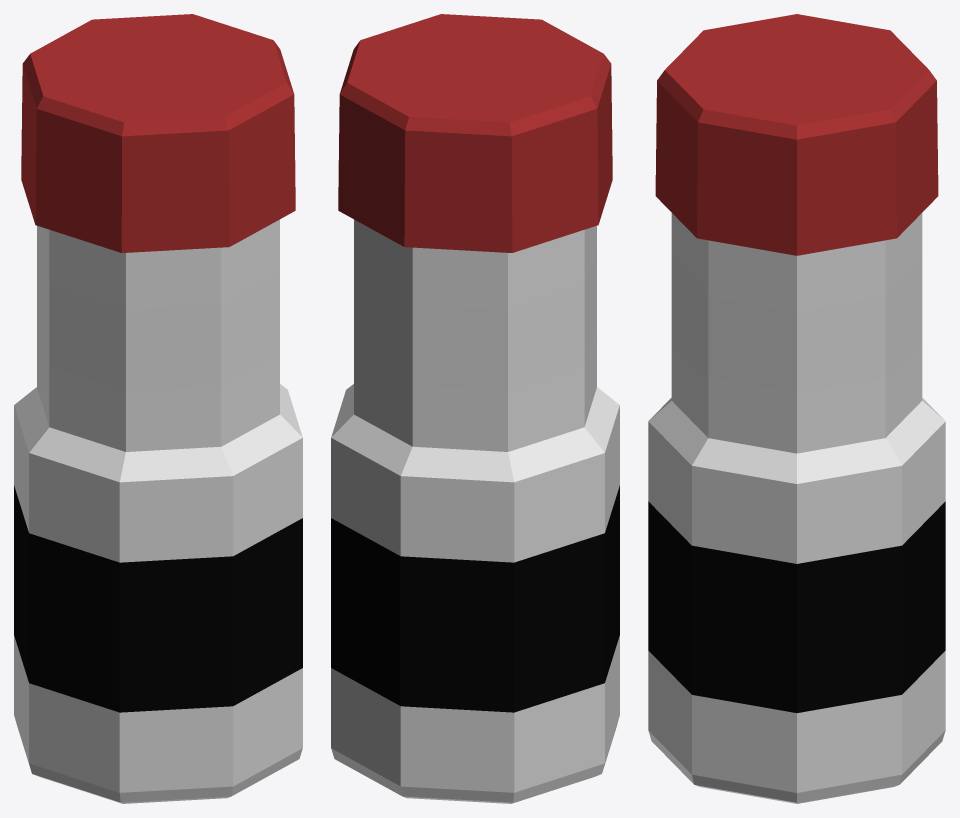
File: Ma_Spice_2.fbx
3 renders of one model, left to right at view 1: azimuth 30°, elevation 25°; view 2: azimuth 150°, elevation 25°; view 3: azimuth 270°, elevation 25°, orthographic.
Visible parts, largest first — view 1: Ma_Spice_2; view 2: Ma_Spice_2; view 3: Ma_Spice_2.
Part boxes in pixels (x1=…): Ma_Spice_2: x1=14, y1=14, x2=302, y2=803; Ma_Spice_2: x1=331, y1=14, x2=619, y2=803; Ma_Spice_2: x1=648, y1=14, x2=945, y2=803.
Size of the model in its own units: 40.47 by 40.47 by 102.
